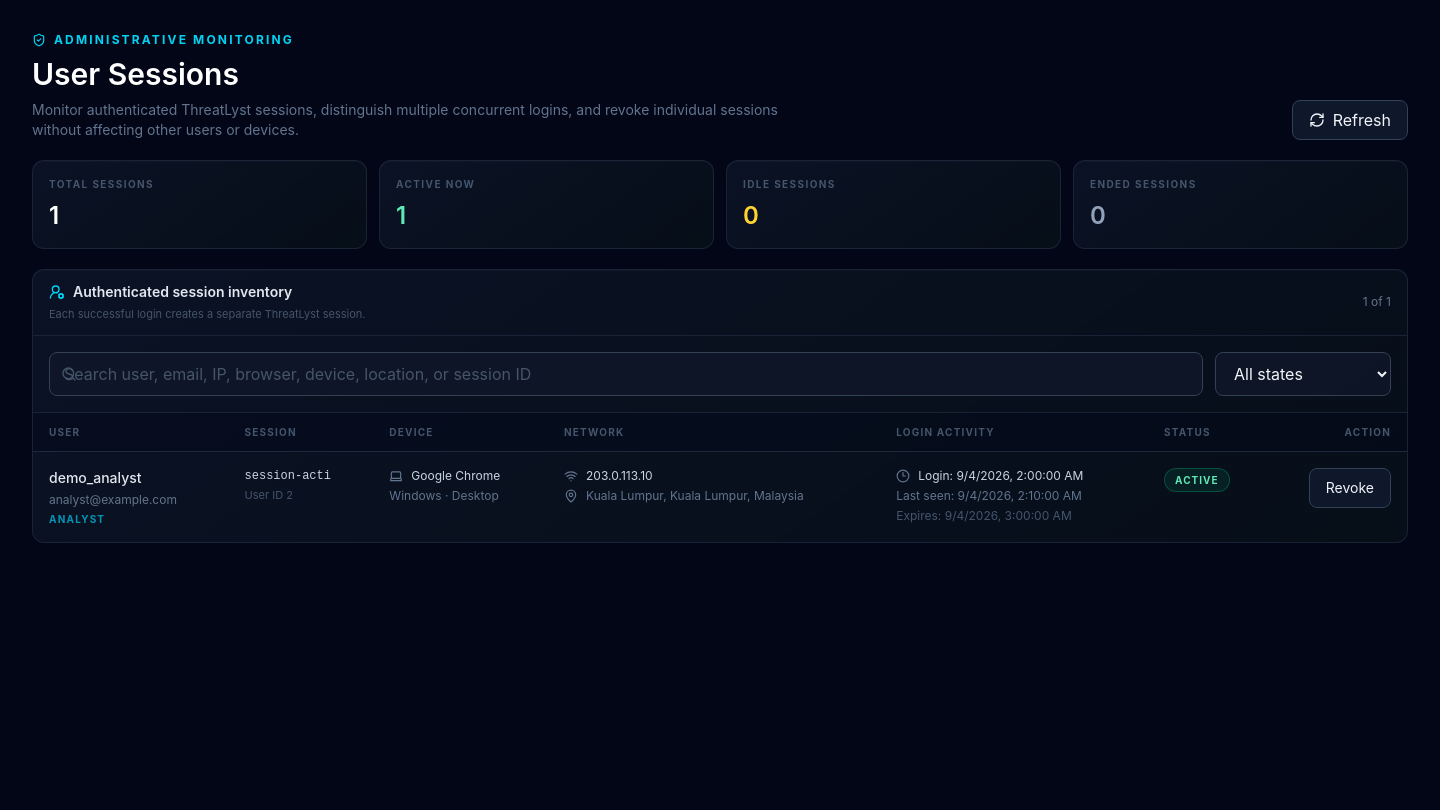
it: UserSessionsPage › shows a failed revoke mutation
Step 1. Click the button "Revoke" → {"x": 1350, "y": 488}, box [1309,468,1391,508]
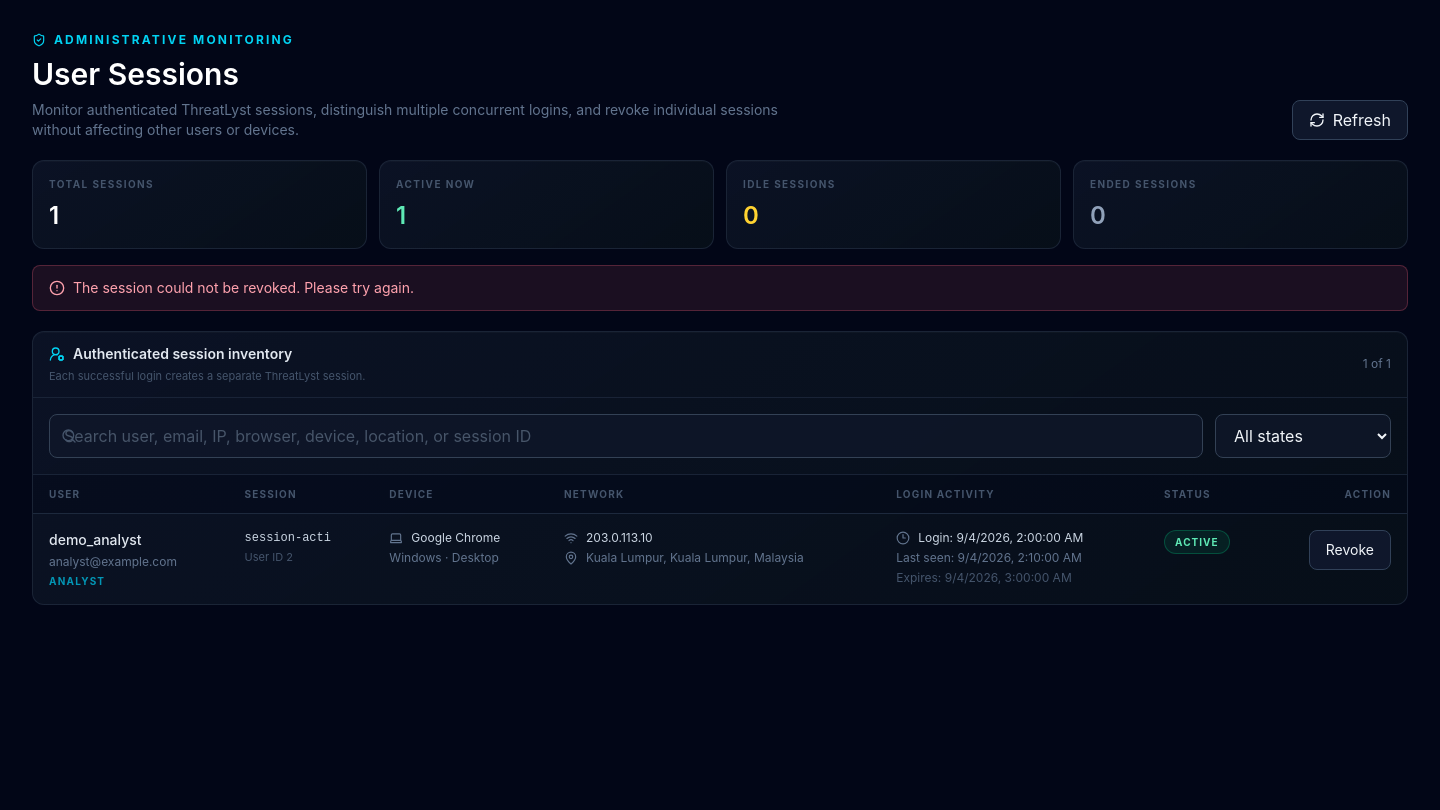
Expected: the message shows "The session could not be revoked.", [73,279,414,296]
